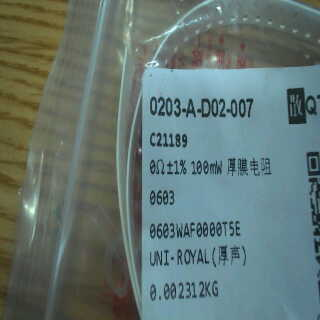0R: (148, 155, 223, 204)
